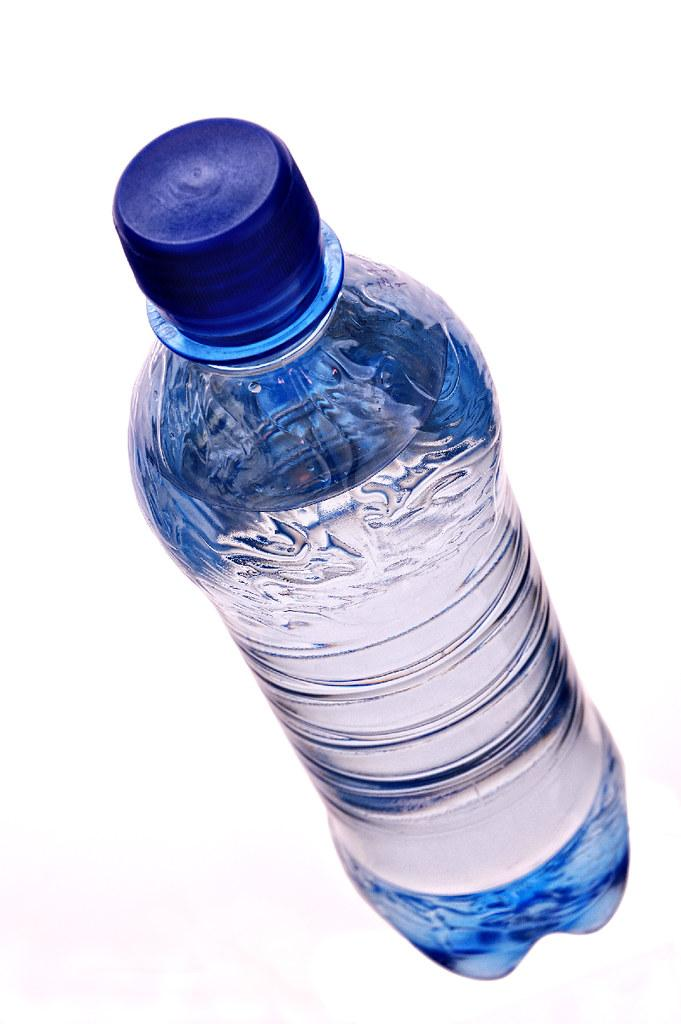bottle: (21, 46, 651, 975)
